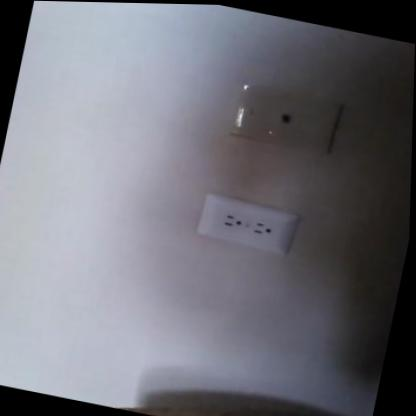OUTLET: (195, 190, 294, 253)
